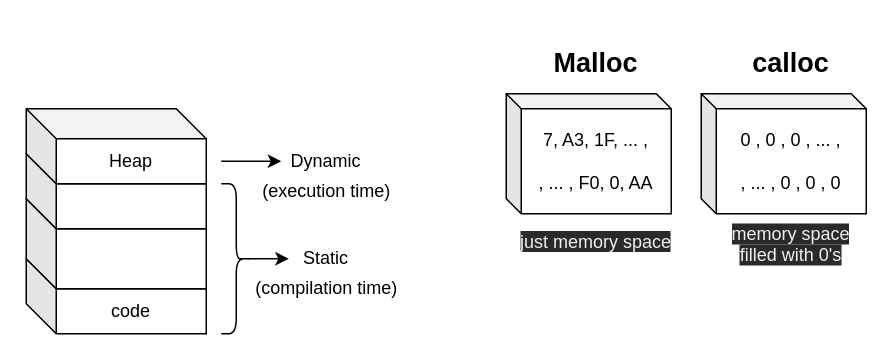
This 893x360 diagram has some shape labels left out. Here are the shapes that lost their labels. From the top down, the box of each, then its label:
(25, 152, 206, 229): Stack
(25, 197, 206, 289): Static / Global Variables
